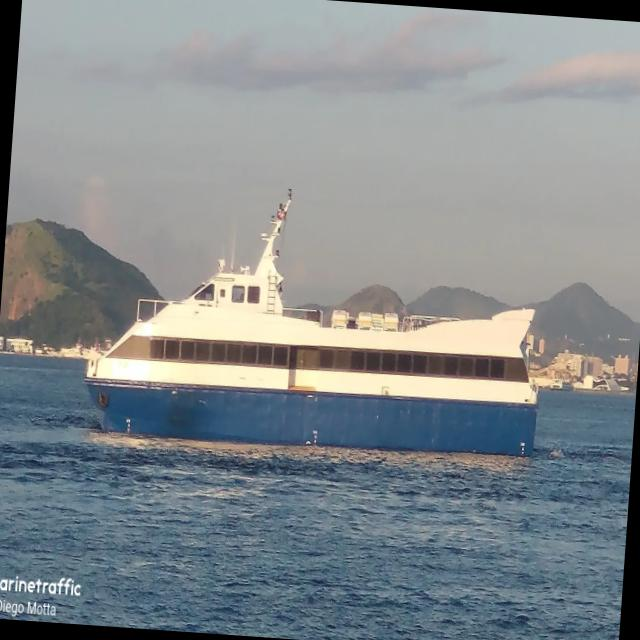Passenger: (84, 190, 537, 455)
